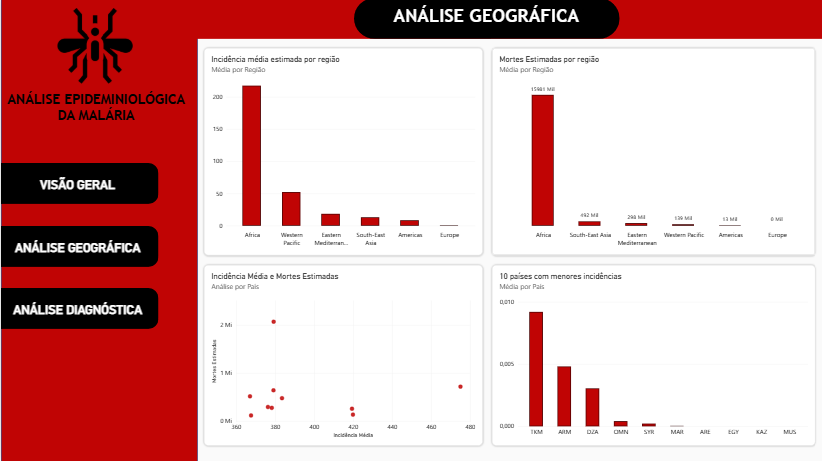

The dashboard page shown, as its layout file describes it:
{"tool":"powerbi","page":{"name":"Análise Geográfica","canvas":[1920,1080],"ordinal":1},"visuals":[{"type":"shape","box":[0,0,457.5,1080],"z":0,"group":"g1"},{"type":"group","id":"g1","title":"Grupo 1","box":[0,0,457.7,1080],"z":0,"group":"g2"},{"type":"shape","box":[0,384.3,366.3,95.2],"z":0,"group":"g5"},{"type":"shape","box":[0,531.3,366.3,95.2],"z":0,"group":"g4"},{"type":"shape","box":[0,539.8,366.3,95.2],"z":0},{"type":"shape","box":[0,673.5,366.3,95.2],"z":0,"group":"g3"},{"type":"textbox","box":[405.9,0,1514.1,95],"z":1000,"group":"g2"},{"type":"image","box":[101.5,24.3,233.3,175.6],"z":1000,"group":"g1"},{"type":"textbox","box":[0,415.7,356.6,35.3],"z":1000,"group":"g5"},{"type":"shape","box":[0,561.4,366.3,95.2],"z":1000},{"type":"textbox","box":[0,562.7,356.6,35.3],"z":1000,"group":"g4"},{"type":"textbox","box":[0,704.9,356.6,35.3],"z":1000,"group":"g3"},{"type":"group","id":"g2","title":"Grupo 2","box":[0,0,1920,1080],"z":2000},{"type":"textbox","box":[0,217.4,443,73.9],"z":2000,"group":"g1"},{"type":"group","id":"g3","title":"Grupo 3","box":[0,673.5,366.3,95.2],"z":4000},{"type":"group","id":"g4","title":"Grupo 3","box":[0,531.3,366.3,95.2],"z":5000},{"type":"group","id":"g5","title":"Grupo 3","box":[0,384.3,366.3,95.2],"z":6000},{"type":"textbox","box":[597.9,17,1061.7,63.8],"z":7000},{"type":"actionButton","box":[0,672.5,367.5,95],"z":8000},{"type":"columnChart","title":"Incidência média estimada por região","fields":{"Category":["Fato_Malaria.ParentLocation"],"Y":["Avg(Fato_Malaria.NumericValue)"]},"box":[472,116,648,482],"z":9000},{"type":"scatterChart","title":"Incidência Média e Mortes Estimadas","fields":{"Category":["Dim_Geografia_Final.SpatialDim"],"X":["Medidas.Incidência Média"],"Y":["Medidas.Mortes Estimadas"]},"box":[472,622,648,420],"z":10000},{"type":"columnChart","title":"Mortes Estimadas por região","fields":{"Category":["Dim_Geografia_Final.ParentLocation"],"Y":["Medidas.Mortes Estimadas"]},"box":[1142,116,752,482],"z":11000},{"type":"columnChart","title":"10 países com menores incidências","fields":{"Category":["Fato_Malaria.SpatialDim"],"Y":["Avg(Fato_Malaria.NumericValue)"]},"box":[1142,622,752,420],"z":12000},{"type":"actionButton","box":[0,385.1,366,95.7],"z":13000},{"type":"shape","box":[820,0,617.5,95],"z":14001,"group":"g2"}]}

Visuals, with their boxes in screenshot pixels (x1, y1, x2, y2), scaled from the page's 1920x1080 canvas onto the 822x461 screenshot:
shape: (0, 0, 196, 460)
"Grupo 1" group: (0, 0, 196, 460)
shape: (0, 164, 157, 205)
shape: (0, 227, 157, 267)
shape: (0, 230, 157, 271)
shape: (0, 287, 157, 328)
textbox: (174, 0, 821, 41)
image: (43, 10, 143, 85)
textbox: (0, 177, 153, 193)
shape: (0, 240, 157, 280)
textbox: (0, 240, 153, 255)
textbox: (0, 301, 153, 316)
"Grupo 2" group: (0, 0, 821, 460)
textbox: (0, 93, 190, 124)
"Grupo 3" group: (0, 287, 157, 328)
"Grupo 3" group: (0, 227, 157, 267)
"Grupo 3" group: (0, 164, 157, 205)
textbox: (256, 7, 711, 34)
actionButton: (0, 287, 157, 328)
"Incidência média estimada por região" columnChart: (202, 50, 480, 255)
"Incidência Média e Mortes Estimadas" scatterChart: (202, 266, 480, 445)
"Mortes Estimadas por região" columnChart: (489, 50, 811, 255)
"10 países com menores incidências" columnChart: (489, 266, 811, 445)
actionButton: (0, 164, 157, 205)
shape: (351, 0, 615, 41)
